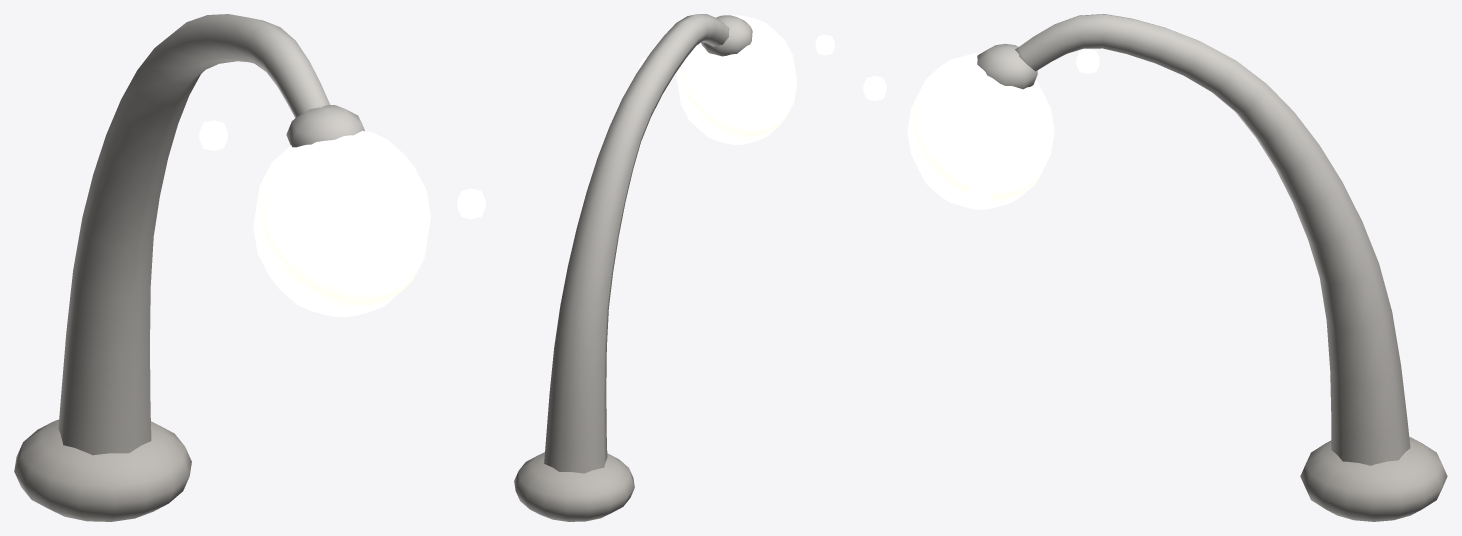
Rendered from part_glow_bulb.glb.
3 views of the same model, side by side, from view 1: azimuth 30°, elevation 25°; view 2: azimuth 150°, elevation 25°; view 3: azimuth 270°, elevation 25° (orthographic). The views are drawn at different scales.
Parts seen in each view (by area): view 1: part_glow_bulb_painted_mesh; view 2: part_glow_bulb_painted_mesh; view 3: part_glow_bulb_painted_mesh.
Part boxes in pixels (box(x1,y1,x2,y2)): part_glow_bulb_painted_mesh: box(14, 14, 485, 521); part_glow_bulb_painted_mesh: box(514, 14, 834, 521); part_glow_bulb_painted_mesh: box(863, 14, 1447, 521).
Size of the model in its own units: 0.345 by 0.8898 by 0.9517.
